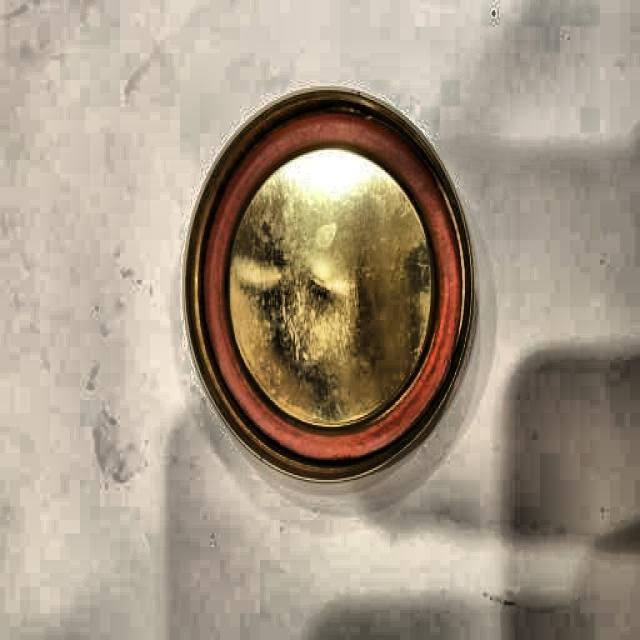metal: (181, 81, 474, 488)
